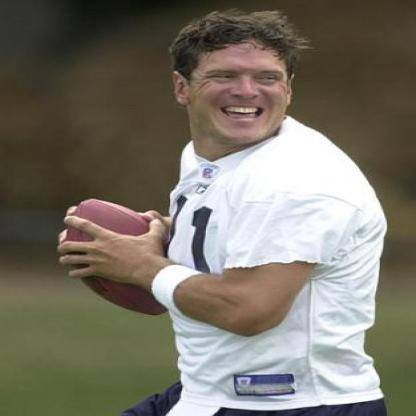face: (186, 22, 294, 147)
